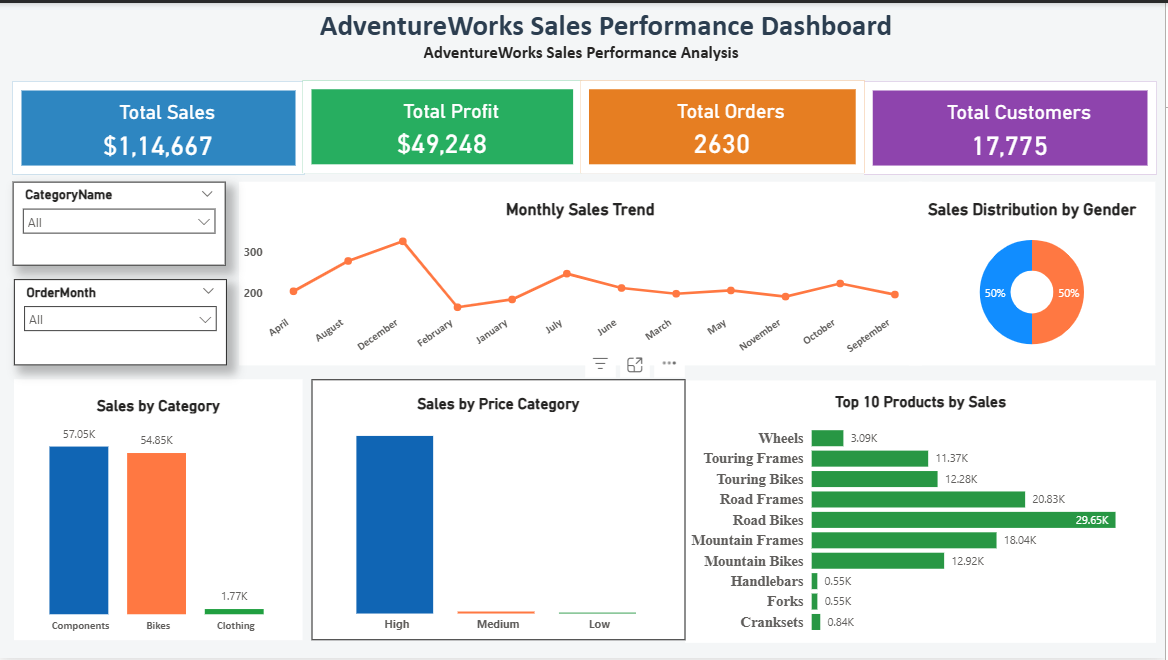

What the dashboard file says about the page in this screenshot:
{"tool":"powerbi","page":{"name":"Page 1","canvas":[1280,720],"ordinal":0},"visuals":[{"type":"textbox","box":[347.2,0,651.8,54.9],"z":0},{"type":"textbox","box":[461.1,38.4,358.1,50.8],"z":1000},{"type":"columnChart","title":"Sales by Category","fields":{"Y":["Sum(customer_dataset product.SalesAmount)"],"Category":["customer_dataset productcategories.CategoryName"]},"box":[16.5,413,317,286.8],"z":2000},{"type":"clusteredBarChart","title":"Top 10 Products by Sales","fields":{"Category":["customer_dataset productsubcategories.SubcategoryName"],"Y":["Sum(customer_dataset product.SalesAmount)"]},"box":[753.1,413.8,516.9,287.8],"z":3000},{"type":"card","title":"Total Sales","fields":{"Values":["Sum(customer_dataset product.SalesAmount)"]},"box":[15.1,86.4,319.7,101.5],"z":4000},{"type":"donutChart","title":"Sales Distribution by Gender","fields":{"Y":["Sum(customer_dataset product.SalesAmount)"],"Category":["customer_dataset customer.Gender"]},"box":[999,196.2,270.3,201.7],"z":5000},{"type":"lineChart","title":"Monthly Sales Trend","fields":{"Y":["Sum(customer_dataset sales.OrderQuantity)"],"Category":["customer_dataset sales.OrderMonthName"]},"box":[263.5,196.2,749.2,201.7],"z":6000},{"type":"slicer","fields":{"Values":["customer_dataset productcategories.CategoryName"]},"box":[15.1,196.2,233.3,91.9],"z":7000},{"type":"columnChart","title":"Sales by Price Category","fields":{"Category":["customer_dataset product.PriceCategory"],"Y":["Sum(customer_dataset product.SalesAmount)"]},"box":[343.1,413,410.3,286.8],"z":8000},{"type":"card","title":"Total Profit","fields":{"Values":["Sum(customer_dataset product.Profit)"]},"box":[333.3,85,306.7,101.7],"z":9000},{"type":"card","title":"Total Customers","fields":{"Values":["CountNonNull(customer_dataset customer.CustomerKey)"]},"box":[949.6,86.4,321.1,101.5],"z":10000},{"type":"card","title":"Total Orders","fields":{"Values":["Sum(customer_dataset sales.OrderQuantity)"]},"box":[638.3,85,311.7,101.7],"z":11000},{"type":"slicer","title":"Order Month","fields":{"Values":["customer_dataset sales.OrderMonth"]},"box":[16.5,303.3,233.3,94.7],"z":12000}]}

Visuals, with their boxes in screenshot pixels (x1, y1, x2, y2), scaled from the page's 1280x720 canvas onto the 1168x660 screenshot:
textbox: locate(317, 0, 912, 50)
textbox: locate(421, 35, 748, 82)
"Sales by Category" columnChart: locate(15, 379, 304, 641)
"Top 10 Products by Sales" clusteredBarChart: locate(687, 379, 1159, 643)
"Total Sales" card: locate(14, 79, 306, 172)
"Sales Distribution by Gender" donutChart: locate(912, 180, 1158, 365)
"Monthly Sales Trend" lineChart: locate(240, 180, 924, 365)
slicer - customer_dataset productcategories.CategoryName: locate(14, 180, 227, 264)
"Sales by Price Category" columnChart: locate(313, 379, 687, 641)
"Total Profit" card: locate(304, 78, 584, 171)
"Total Customers" card: locate(867, 79, 1160, 172)
"Total Orders" card: locate(582, 78, 867, 171)
"Order Month" slicer: locate(15, 278, 228, 365)
